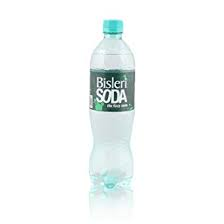Bisleri: (93, 76, 129, 88)
